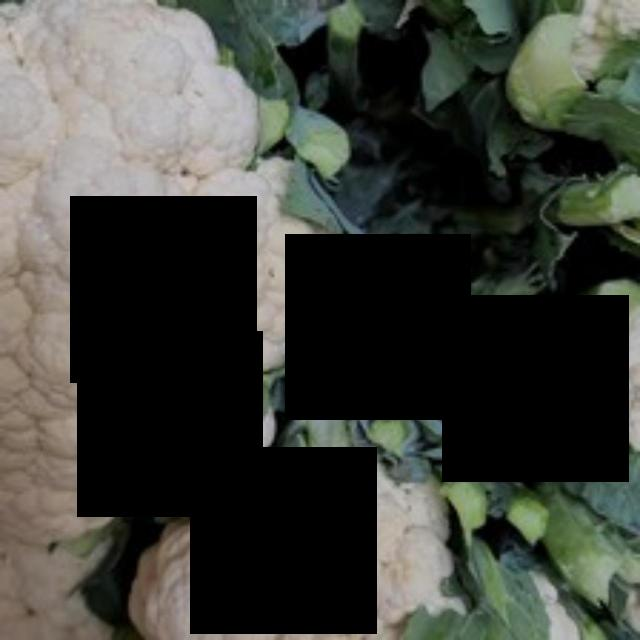cauliflower: (0, 0, 358, 541)
